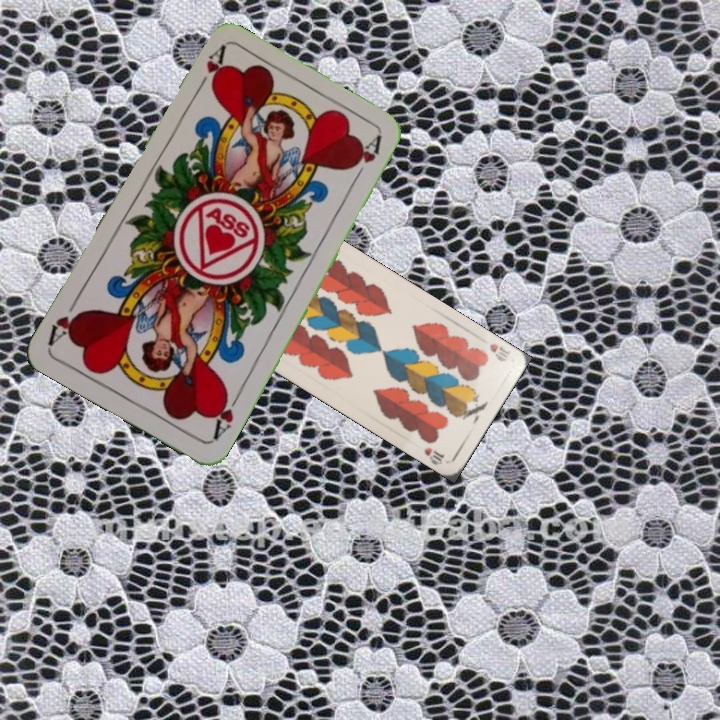H10: (486, 339, 513, 364)
HA: (191, 43, 228, 98), (208, 387, 243, 443)
